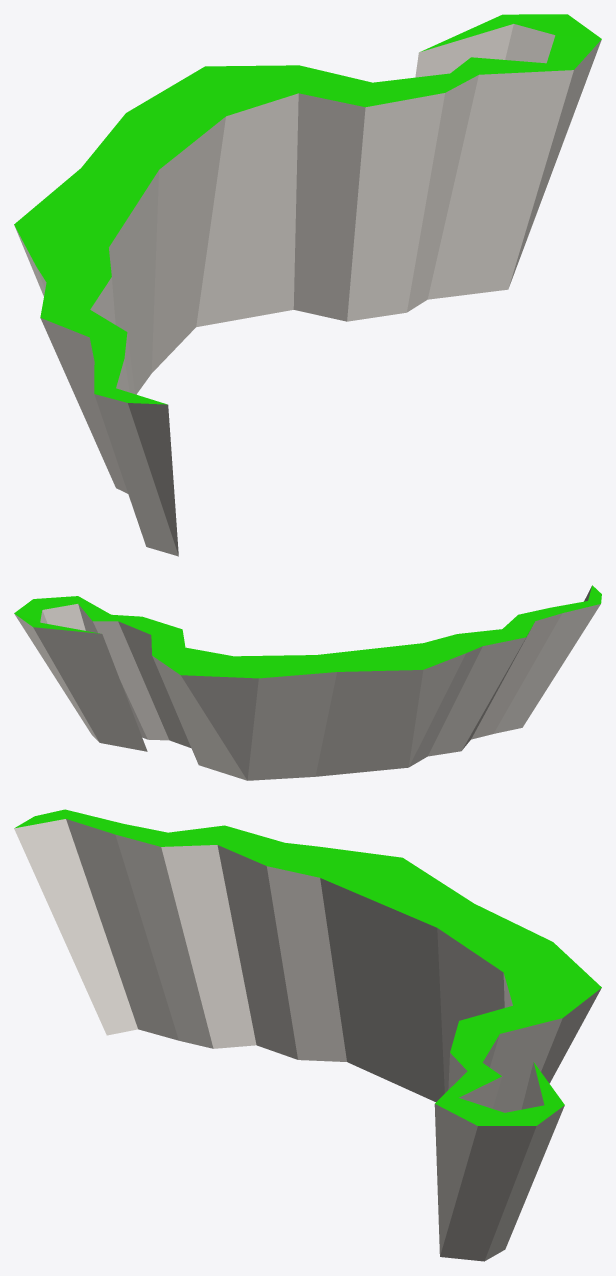
The model's file is CrackFissure_01.fbx.
3 views of the same model, one above another, from view 1: azimuth 30°, elevation 25°; view 2: azimuth 150°, elevation 25°; view 3: azimuth 270°, elevation 25° (orthographic). The views are drawn at different scales.
Visible parts, largest first — view 1: Cylinder035; view 2: Cylinder035; view 3: Cylinder035.
Part boxes in pixels (x1,y1,x2,y2): Cylinder035: [14, 14, 601, 556]; Cylinder035: [14, 585, 601, 780]; Cylinder035: [14, 809, 601, 1261].
Size of the model in its own units: 3652 by 969 by 2866.
